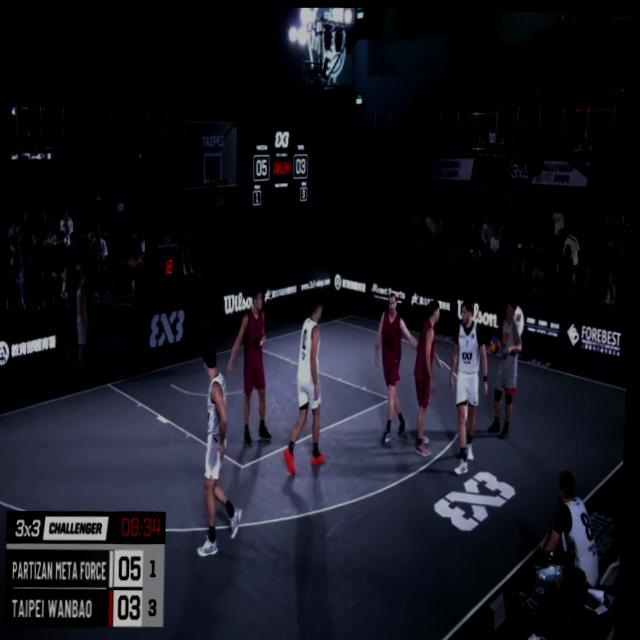ball: (491, 329, 504, 355)
hoop: (211, 173, 233, 210)
player: (198, 347, 251, 559), (279, 296, 333, 473), (230, 290, 280, 449), (446, 296, 491, 468), (370, 292, 418, 452), (413, 295, 450, 457)
